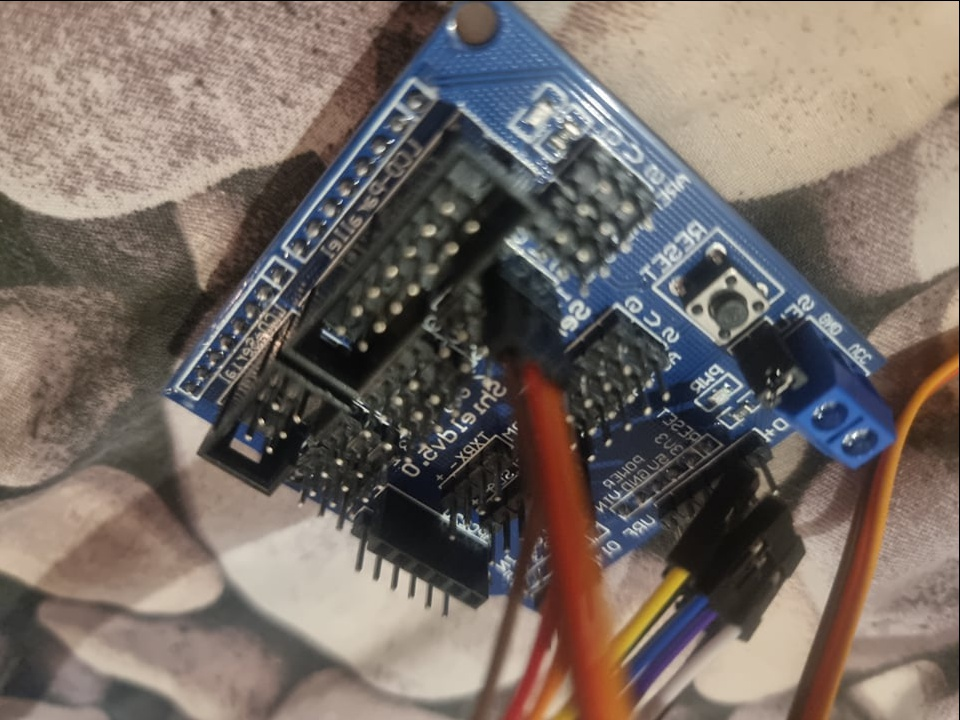5V EXPANSION: (164, 4, 893, 614)
